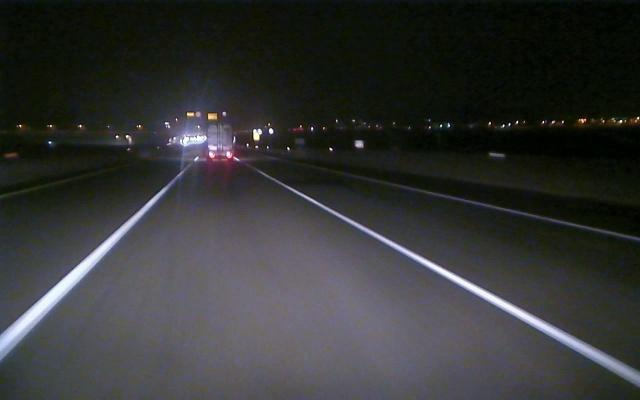lane: (260, 172, 635, 383), (4, 187, 167, 358), (352, 174, 640, 242), (0, 168, 120, 199)
